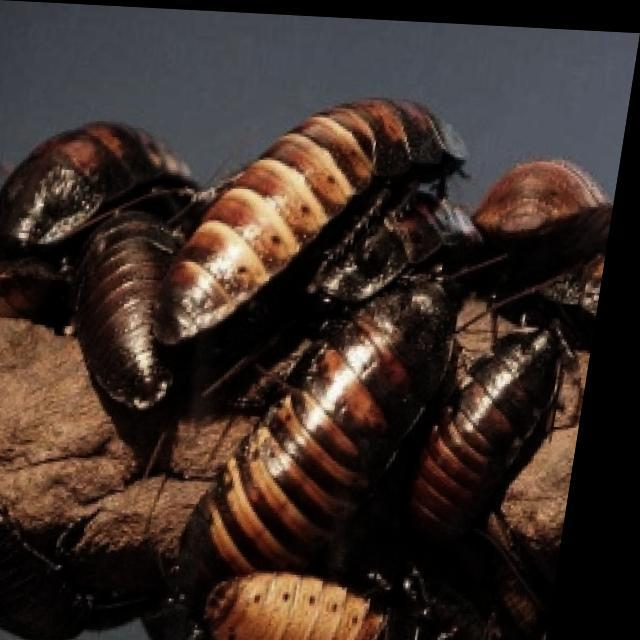cockroach: (142, 90, 485, 370), (172, 277, 472, 596), (75, 197, 190, 440)
